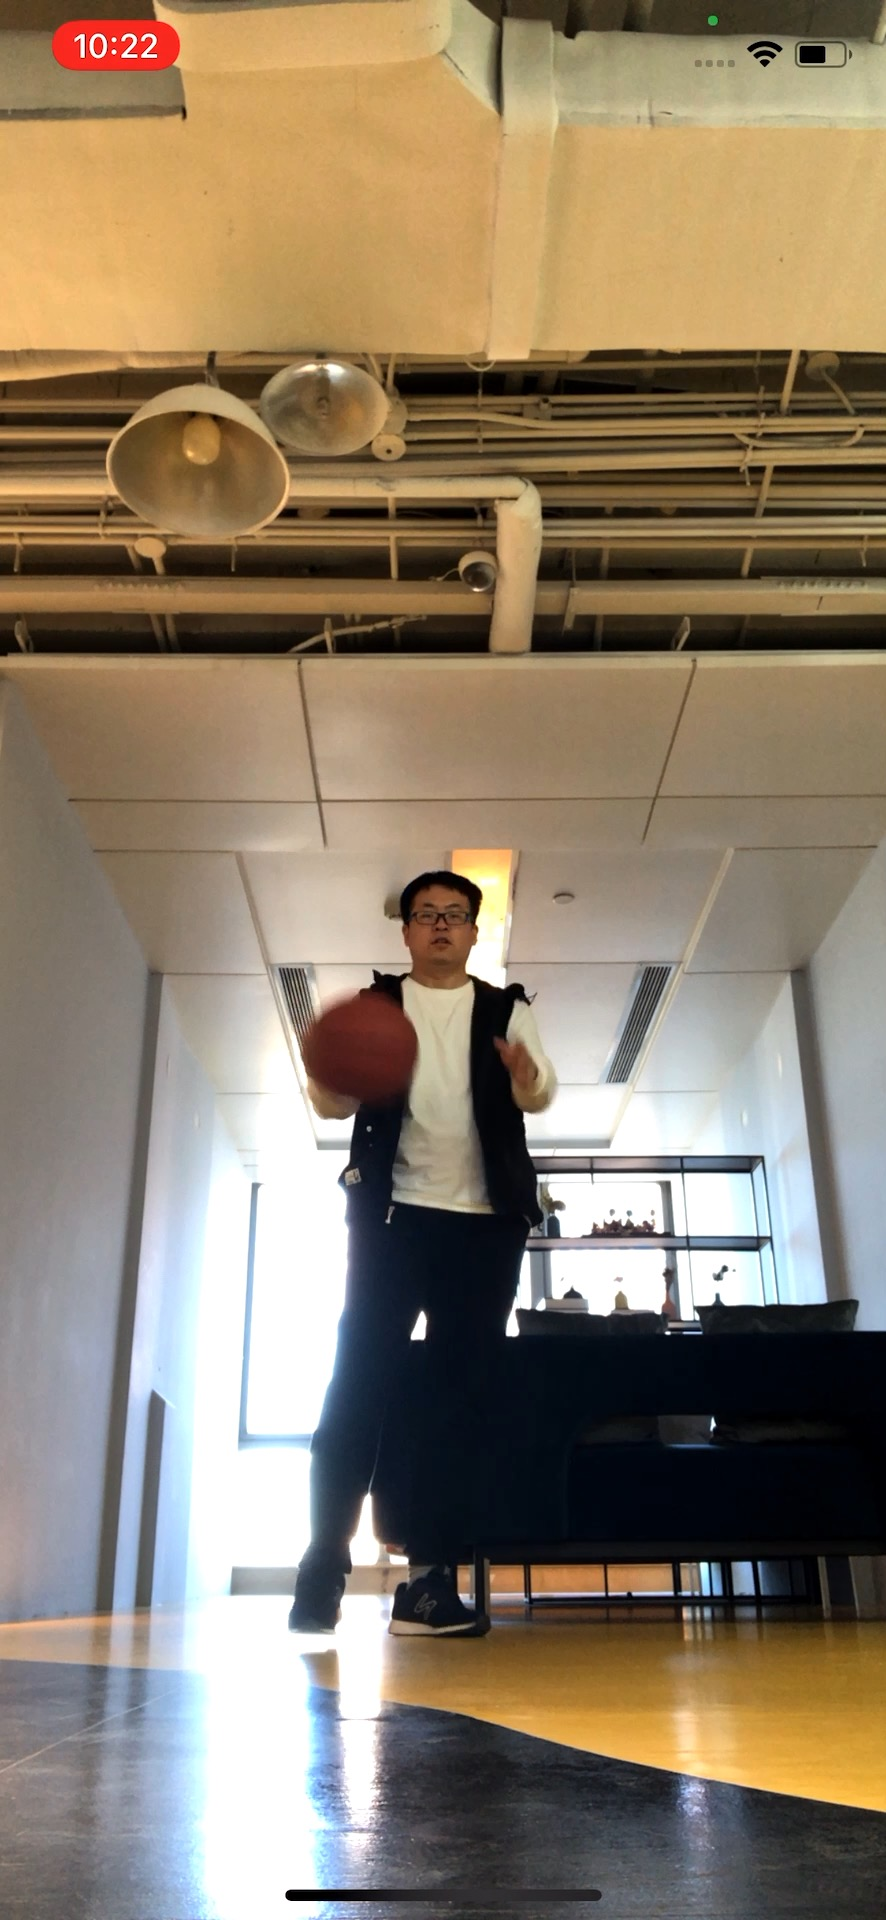ball: (308, 996, 421, 1102)
